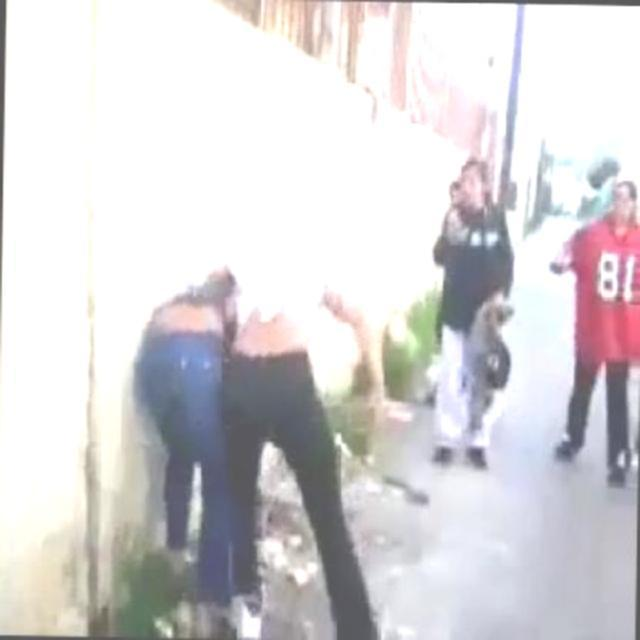fight: (128, 240, 374, 638)
